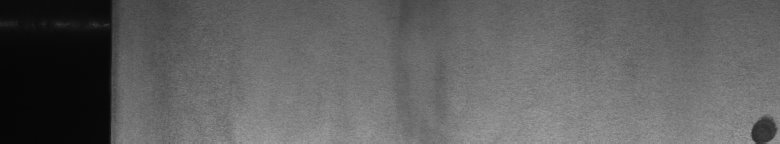fi: (744, 108, 776, 136)
